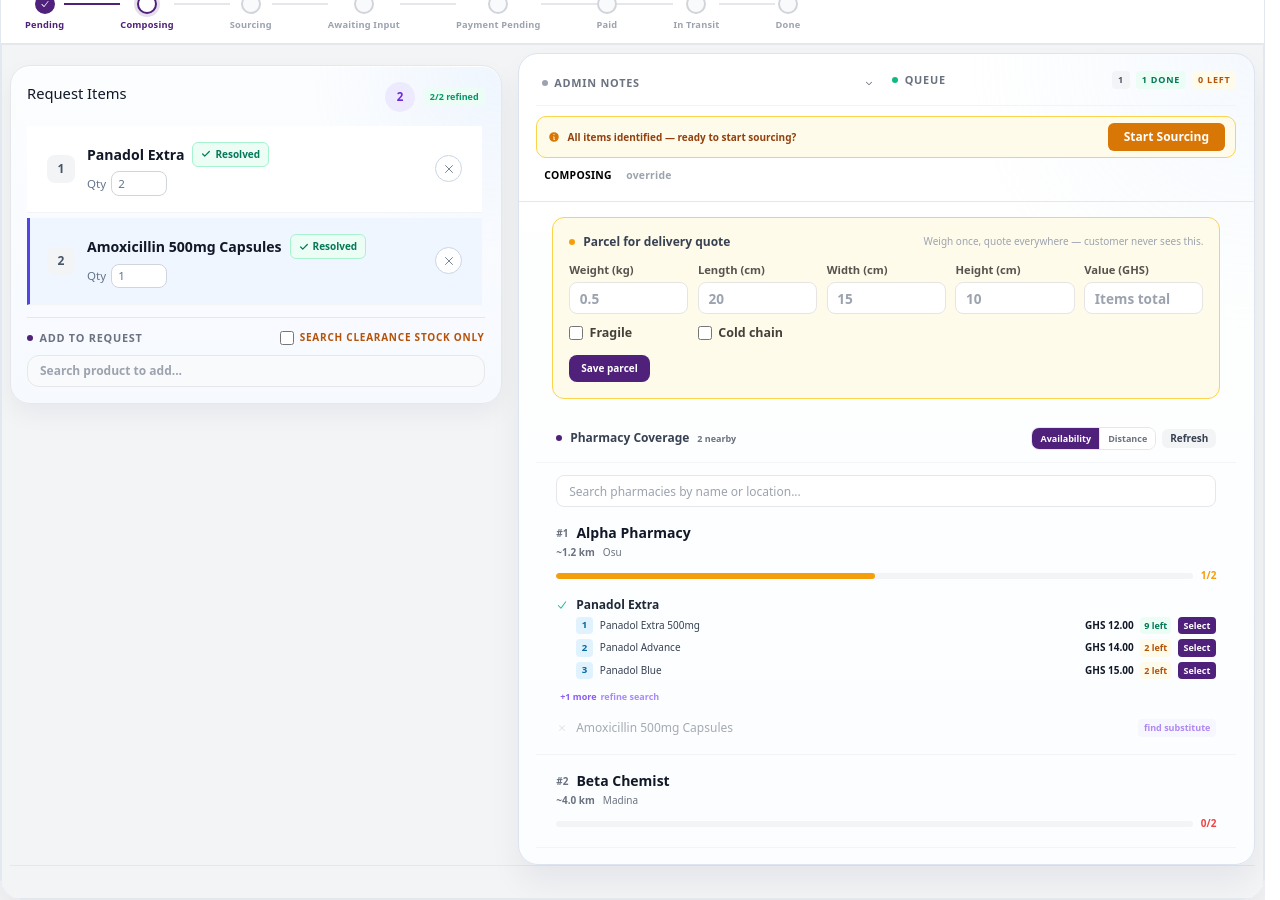
coverage matrix: picking a match › shows three matches, and the rest on request
(page scrolled)
Expected: the number of elements with class "coverage-item-match-row" is 3, [556,614,1216,637]; [556,637,1216,659]; [556,659,1216,682]
Click the button "+1 more".
click(578, 696)  # box [556,688,600,705]
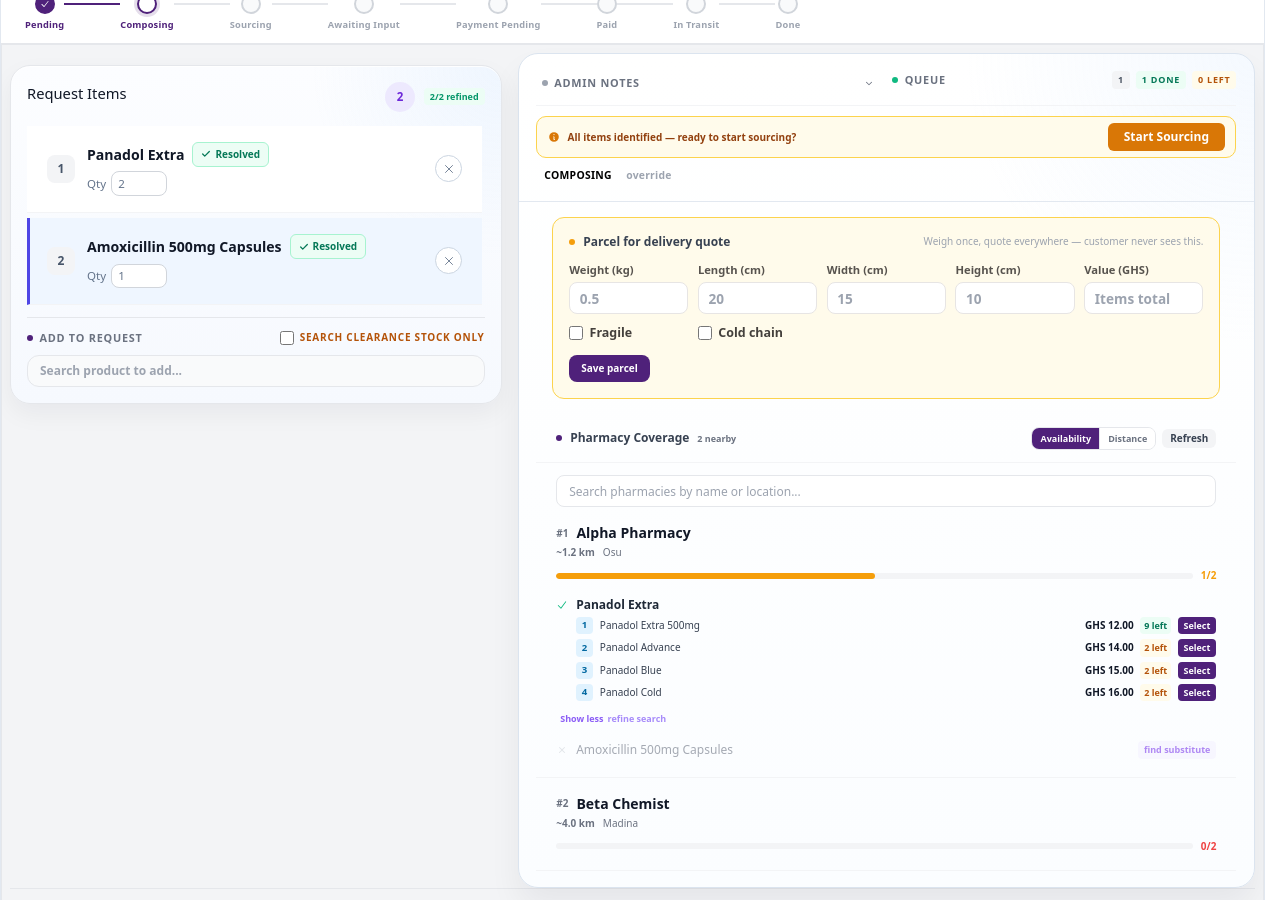
Expected: the number of elements with class "coverage-item-match-row" is 4, [556,614,1216,637]; [556,637,1216,659]; [556,659,1216,682]; [556,682,1216,704]
Click the button "Show less".
click(582, 719)  # box [556,710,608,727]
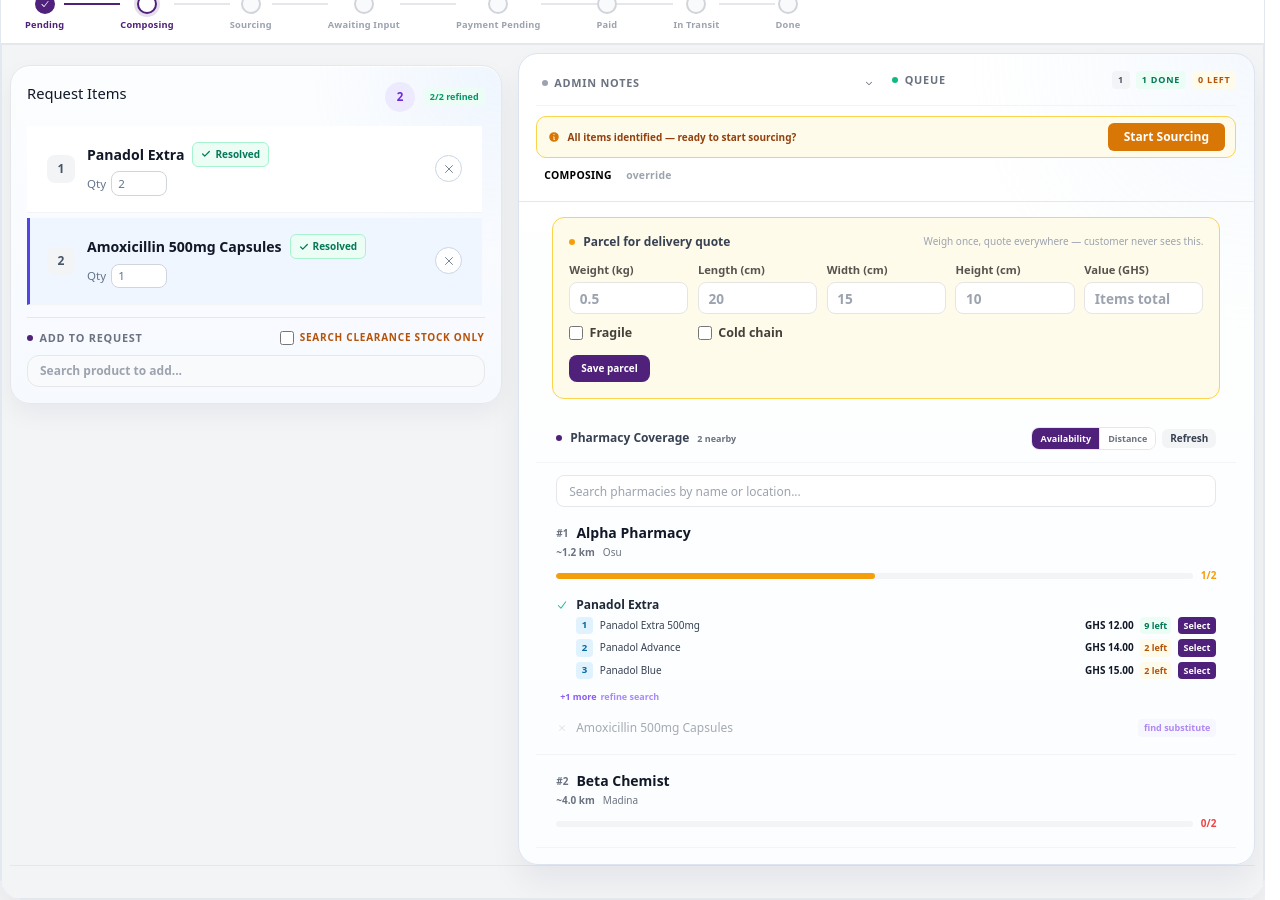
Expected: the number of elements with class "coverage-item-match-row" is 3, [556,614,1216,637]; [556,637,1216,659]; [556,659,1216,682]
